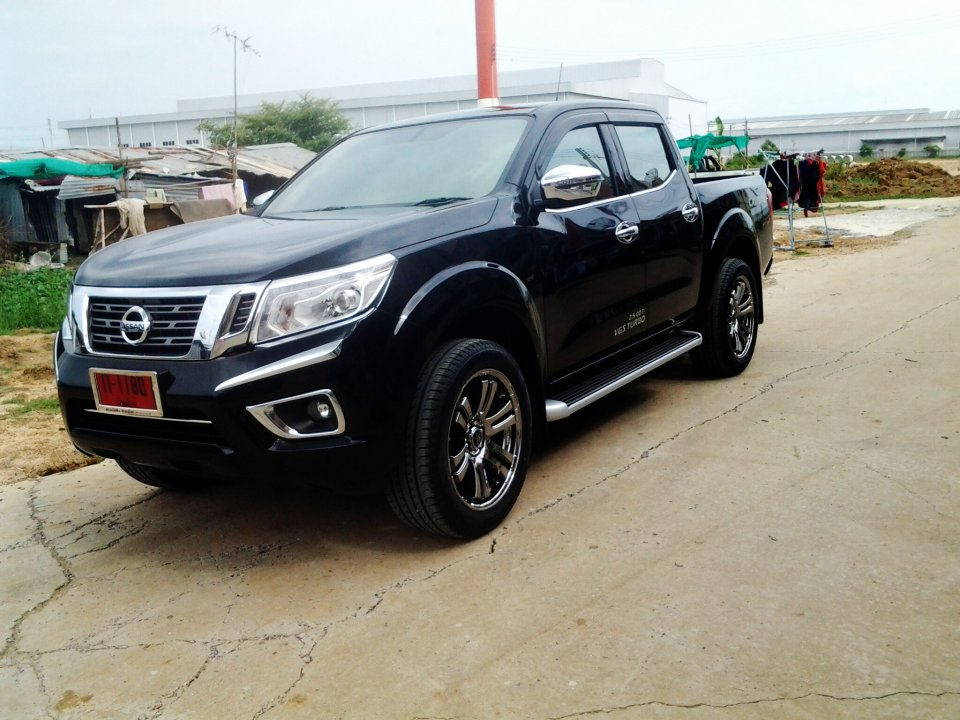pickup: (50, 97, 777, 543)
